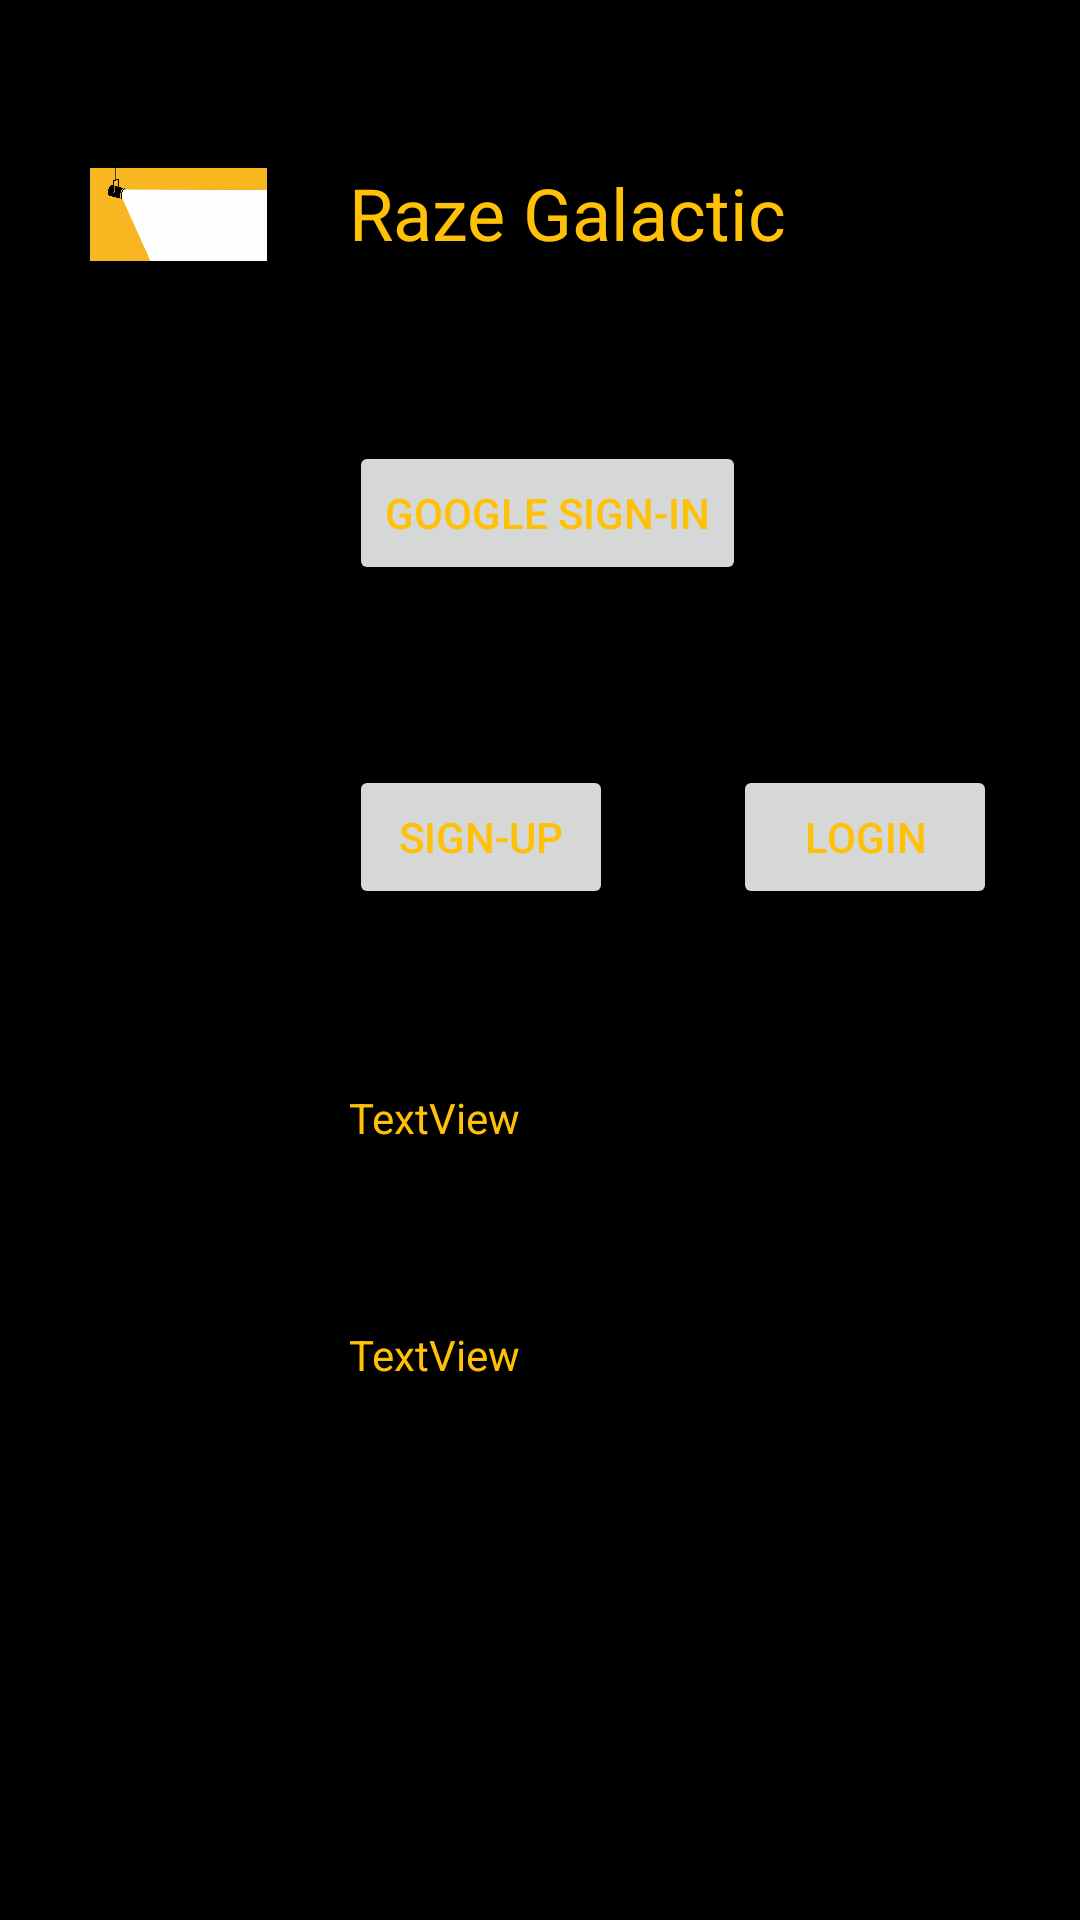

Screen size 1080w x 1920h. Icon name, then its center in pixels as point (x, y):
spot: point (178, 214)
